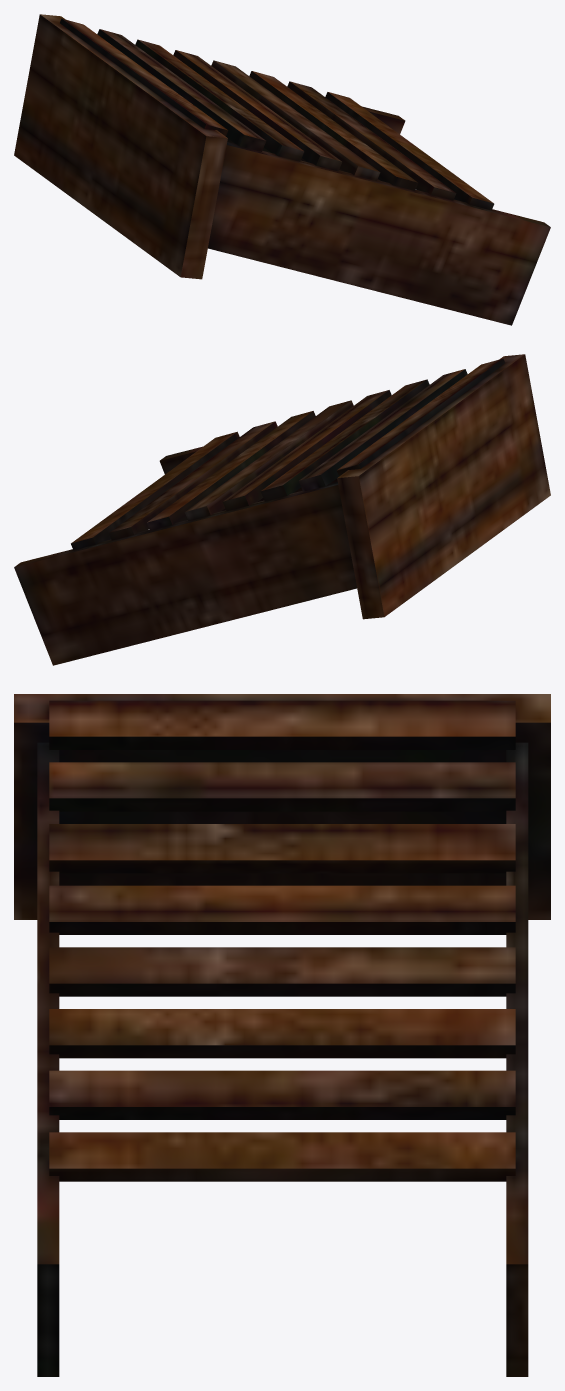
Rendered from rice thresher.fbx.
3 renders of one model, top to bottom at view 1: azimuth 30°, elevation 25°; view 2: azimuth 150°, elevation 25°; view 3: azimuth 270°, elevation 25°, orthographic. The views are drawn at different scales.
Parts seen in each view (by area): view 1: rice thresher; view 2: rice thresher; view 3: rice thresher.
Part boxes in pixels (x1,y1,x2,y2): rice thresher: (14,14,550,325); rice thresher: (14,354,550,665); rice thresher: (14,694,550,1376).
Bounding box in the file's own units: 1392 × 959 × 1064.
